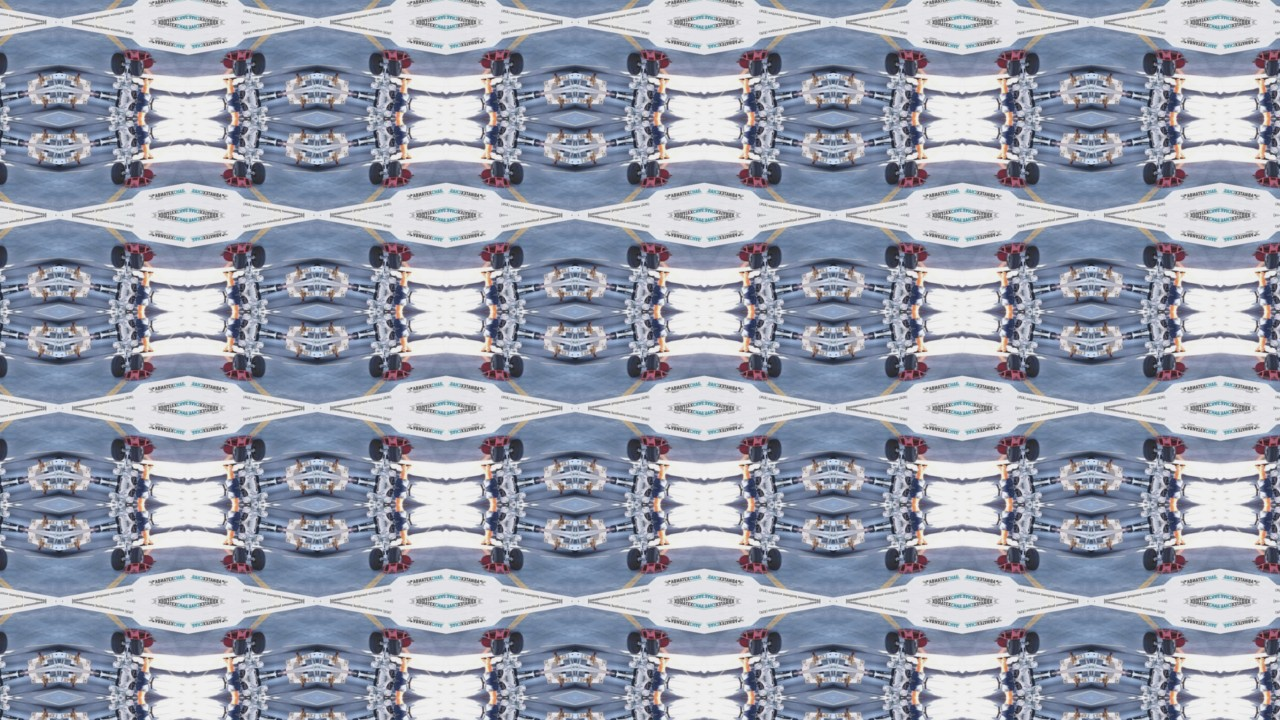chock: (121, 46, 151, 62), (222, 46, 252, 62), (380, 46, 410, 62), (481, 46, 511, 62), (639, 46, 669, 62), (740, 46, 770, 62), (898, 46, 928, 62), (999, 46, 1029, 62), (1157, 46, 1187, 62), (121, 173, 151, 189), (222, 173, 252, 189), (380, 173, 410, 189), (481, 173, 511, 189), (639, 173, 669, 189), (740, 173, 770, 189), (898, 173, 928, 189), (999, 173, 1029, 189), (1157, 173, 1187, 189), (121, 240, 151, 256), (222, 240, 252, 256), (380, 240, 410, 256), (481, 240, 511, 256), (639, 240, 669, 256), (740, 240, 770, 256), (898, 240, 928, 256), (999, 240, 1029, 256), (1157, 240, 1187, 256), (121, 367, 151, 383), (222, 367, 252, 383), (380, 367, 410, 383), (481, 367, 511, 383), (639, 367, 669, 383), (740, 367, 770, 383), (898, 367, 928, 383), (999, 367, 1029, 383), (1157, 367, 1187, 383), (121, 434, 151, 450), (222, 434, 252, 450), (380, 434, 410, 450), (481, 434, 511, 450), (639, 434, 669, 450), (740, 434, 770, 450), (898, 434, 928, 450), (999, 434, 1029, 450), (1157, 434, 1187, 450), (121, 561, 151, 577), (222, 561, 252, 577), (380, 561, 410, 577), (481, 561, 511, 577), (639, 561, 669, 577), (740, 561, 770, 577), (898, 561, 928, 577), (999, 561, 1029, 577), (1157, 561, 1187, 577), (121, 628, 151, 644), (222, 628, 252, 644), (380, 628, 410, 644), (481, 628, 511, 644), (639, 628, 669, 644), (740, 628, 770, 644), (898, 628, 928, 644), (999, 628, 1029, 644), (1157, 628, 1187, 644), (1258, 46, 1280, 62), (1258, 173, 1280, 189), (1258, 240, 1280, 256), (1258, 367, 1280, 383), (1258, 434, 1280, 450), (1258, 561, 1280, 577), (1258, 628, 1280, 644), (140, 55, 154, 69), (219, 55, 233, 69), (399, 55, 413, 69), (478, 55, 492, 69), (658, 55, 672, 69), (737, 55, 751, 69), (917, 55, 931, 69), (996, 55, 1010, 69), (1176, 55, 1190, 69), (1255, 55, 1269, 69), (140, 166, 154, 180), (219, 166, 233, 180), (399, 166, 413, 180), (478, 166, 492, 180), (658, 166, 672, 180), (737, 166, 751, 180), (917, 166, 931, 180), (996, 166, 1010, 180), (1176, 166, 1190, 180), (1255, 166, 1269, 180), (140, 249, 154, 263), (219, 249, 233, 263), (399, 249, 413, 263), (478, 249, 492, 263), (658, 249, 672, 263), (737, 249, 751, 263), (917, 249, 931, 263), (996, 249, 1010, 263), (1176, 249, 1190, 263), (1255, 249, 1269, 263), (140, 360, 154, 374), (219, 360, 233, 374), (399, 360, 413, 374), (478, 360, 492, 374), (658, 360, 672, 374), (737, 360, 751, 374), (917, 360, 931, 374), (996, 360, 1010, 374), (1176, 360, 1190, 374), (1255, 360, 1269, 374), (140, 443, 154, 457), (219, 443, 233, 457), (399, 443, 413, 457), (478, 443, 492, 457), (658, 443, 672, 457), (737, 443, 751, 457), (917, 443, 931, 457), (996, 443, 1010, 457), (1176, 443, 1190, 457), (1255, 443, 1269, 457), (140, 554, 154, 568), (219, 554, 233, 568), (399, 554, 413, 568), (478, 554, 492, 568), (658, 554, 672, 568), (737, 554, 751, 568), (917, 554, 931, 568), (996, 554, 1010, 568), (1176, 554, 1190, 568), (1255, 554, 1269, 568), (140, 637, 154, 651), (219, 637, 233, 651), (399, 637, 413, 651), (478, 637, 492, 651), (658, 637, 672, 651), (737, 637, 751, 651), (917, 637, 931, 651), (996, 637, 1010, 651), (1176, 637, 1190, 651), (1255, 637, 1269, 651)
wheel: (107, 51, 126, 75), (247, 51, 266, 75), (366, 51, 385, 75), (506, 51, 525, 75), (625, 51, 644, 75), (765, 51, 784, 75), (884, 51, 903, 75), (1024, 51, 1043, 75), (1143, 51, 1162, 75), (107, 160, 126, 184), (247, 160, 266, 184), (366, 160, 385, 184), (506, 160, 525, 184), (625, 160, 644, 184), (765, 160, 784, 184), (884, 160, 903, 184), (1024, 160, 1043, 184), (1143, 160, 1162, 184), (107, 245, 126, 269), (247, 245, 266, 269), (366, 245, 385, 269), (506, 245, 525, 269), (625, 245, 644, 269), (765, 245, 784, 269), (884, 245, 903, 269), (1024, 245, 1043, 269), (1143, 245, 1162, 269), (107, 354, 126, 378), (247, 354, 266, 378), (366, 354, 385, 378), (506, 354, 525, 378), (625, 354, 644, 378), (765, 354, 784, 378), (884, 354, 903, 378), (1024, 354, 1043, 378), (1143, 354, 1162, 378), (107, 439, 126, 463), (247, 439, 266, 463), (366, 439, 385, 463), (506, 439, 525, 463), (625, 439, 644, 463), (765, 439, 784, 463), (884, 439, 903, 463), (1024, 439, 1043, 463), (1143, 439, 1162, 463), (107, 548, 126, 572), (247, 548, 266, 572), (366, 548, 385, 572), (506, 548, 525, 572), (625, 548, 644, 572), (765, 548, 784, 572), (884, 548, 903, 572), (1024, 548, 1043, 572), (1143, 548, 1162, 572), (107, 633, 126, 657), (247, 633, 266, 657), (366, 633, 385, 657), (506, 633, 525, 657), (625, 633, 644, 657), (765, 633, 784, 657), (884, 633, 903, 657), (1024, 633, 1043, 657), (1143, 633, 1162, 657), (126, 57, 144, 76), (229, 57, 247, 76), (385, 57, 403, 76), (488, 57, 506, 76), (644, 57, 662, 76), (747, 57, 765, 76), (903, 57, 921, 76), (1006, 57, 1024, 76), (1162, 57, 1180, 76), (126, 159, 144, 178), (229, 159, 247, 178), (385, 159, 403, 178), (488, 159, 506, 178), (644, 159, 662, 178), (747, 159, 765, 178), (903, 159, 921, 178), (1006, 159, 1024, 178), (1162, 159, 1180, 178), (126, 251, 144, 270), (229, 251, 247, 270), (385, 251, 403, 270), (488, 251, 506, 270), (644, 251, 662, 270), (747, 251, 765, 270), (903, 251, 921, 270), (1006, 251, 1024, 270), (1162, 251, 1180, 270), (126, 353, 144, 372), (229, 353, 247, 372), (385, 353, 403, 372), (488, 353, 506, 372), (644, 353, 662, 372), (747, 353, 765, 372), (903, 353, 921, 372), (1006, 353, 1024, 372), (1162, 353, 1180, 372), (126, 445, 144, 464), (229, 445, 247, 464), (385, 445, 403, 464), (488, 445, 506, 464), (644, 445, 662, 464), (747, 445, 765, 464), (903, 445, 921, 464), (1006, 445, 1024, 464), (1162, 445, 1180, 464), (126, 547, 144, 566), (229, 547, 247, 566), (385, 547, 403, 566), (488, 547, 506, 566), (644, 547, 662, 566), (747, 547, 765, 566), (903, 547, 921, 566), (1006, 547, 1024, 566), (1162, 547, 1180, 566), (126, 639, 144, 658), (229, 639, 247, 658), (385, 639, 403, 658), (488, 639, 506, 658), (644, 639, 662, 658), (747, 639, 765, 658), (903, 639, 921, 658), (1006, 639, 1024, 658), (1162, 639, 1180, 658), (1265, 57, 1280, 76), (1265, 159, 1280, 178), (1265, 251, 1280, 270), (1265, 353, 1280, 372), (1265, 445, 1280, 464), (1265, 547, 1280, 566), (1265, 639, 1280, 658), (0, 51, 7, 75), (0, 160, 7, 184), (0, 245, 7, 269), (0, 354, 7, 378), (0, 439, 7, 463), (0, 548, 7, 572), (0, 633, 7, 657)
